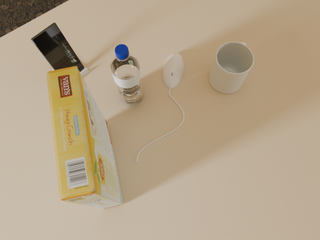bottle: (111, 44, 143, 105)
box: (47, 66, 123, 209)
cup: (209, 42, 254, 94)
mouse: (163, 53, 184, 88)
phone: (31, 23, 84, 71)
